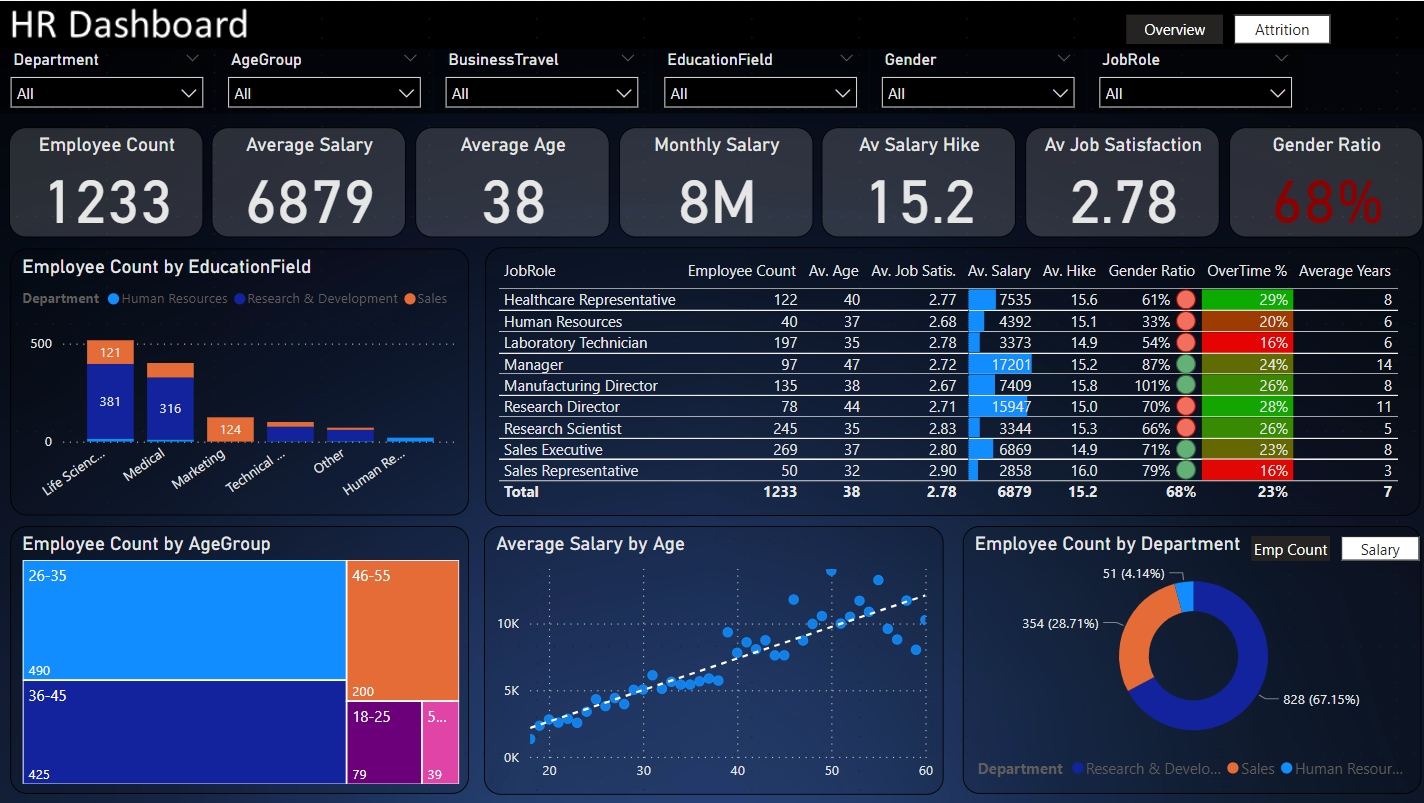

What the dashboard file says about the page in this screenshot:
{"tool":"powerbi","page":{"name":"Overview","canvas":[1280,720],"ordinal":0},"visuals":[{"type":"slicer","fields":{"Values":["HR_Analytics.Department"]},"box":[0,39,192,60.7],"z":0},{"type":"card","title":"Employee Count","fields":{"Values":["HR_Analytics.Employee Count"]},"box":[8.7,112.7,173.4,98.2],"z":1000},{"type":"slicer","fields":{"Values":["HR_Analytics.AgeGroup"]},"box":[194.3,39,192.1,60.7],"z":2000},{"type":"slicer","fields":{"Values":["HR_Analytics.BusinessTravel"]},"box":[388.8,39,192.1,60.7],"z":3000},{"type":"slicer","fields":{"Values":["HR_Analytics.EducationField"]},"box":[583.3,39,192.1,60.7],"z":4000},{"type":"slicer","fields":{"Values":["HR_Analytics.Gender"]},"box":[777.8,39,192.1,60.7],"z":5000},{"type":"slicer","fields":{"Values":["HR_Analytics.JobRole"]},"box":[972.3,39,192.1,60.7],"z":6000},{"type":"card","title":"Gender Ratio","fields":{"Values":["HR_Analytics.Gender Ratio"]},"box":[1098,112.7,173.4,98.2],"z":7000},{"type":"card","title":"Average Age","fields":{"Values":["HR_Analytics.Average Age"]},"box":[371.8,112.7,173.4,98.2],"z":8000},{"type":"card","title":"Av Salary Hike","fields":{"Values":["HR_Analytics.Average Salary Hike"]},"box":[734.9,112.7,173.4,98.2],"z":9000},{"type":"card","title":"Average Salary","fields":{"Values":["HR_Analytics.Average Salary"]},"box":[190.2,112.7,173.4,98.2],"z":10000},{"type":"card","title":"Monthly Salary","fields":{"Values":["HR_Analytics.Monthly Salary"]},"box":[553.3,112.7,173.4,98.2],"z":11000},{"type":"card","title":"Av Job Satisfaction","fields":{"Values":["HR_Analytics.Average Job Satisfaction"]},"box":[916.4,112.7,173.4,98.2],"z":12000},{"type":"columnChart","title":"Employee Count by EducationField","fields":{"Category":["HR_Analytics.EducationField"],"Y":["HR_Analytics.Employee Count"],"Series":["HR_Analytics.Department"]},"box":[10.5,221.2,409.7,238.3],"z":13000},{"type":"treemap","fields":{"Values":["HR_Analytics.Employee Count"],"Group":["HR_Analytics.AgeGroup"]},"box":[10.5,469.3,409.7,239.6],"z":14000},{"type":"donutChart","fields":{"Y":["HR_Analytics.Employee Count"],"Category":["HR_Analytics.Department"]},"box":[860.3,469.3,409.7,239.6],"z":15000},{"type":"tableEx","fields":{"Values":["HR_Analytics.JobRole","HR_Analytics.Employee Count","HR_Analytics.Average Age","HR_Analytics.Average Job Satisfaction","HR_Analytics.Average Salary","HR_Analytics.Average Salary Hike","HR_Analytics.Gender Ratio","HR_Analytics.OverTime %","HR_Analytics.Average Years"]},"box":[433.9,220.4,835,239.8],"z":16000},{"type":"scatterChart","fields":{"X":["HR_Analytics.Age"],"Y":["HR_Analytics.Average Salary"]},"box":[433.4,468.9,410,240],"z":17000},{"type":"pageNavigator","box":[1006.8,12.7,183.1,26.8],"z":18000},{"type":"bookmarkNavigator","box":[1118.2,477.3,150.9,22.7],"z":20000}]}

Visuals, with their boxes in screenshot pixels (x1, y1, x2, y2), scaled from the page's 1280x720 canvas onto the 1424x803 screenshot:
slicer - HR_Analytics.Department: <region>0, 43, 214, 111</region>
"Employee Count" card: <region>10, 126, 203, 235</region>
slicer - HR_Analytics.AgeGroup: <region>216, 43, 430, 111</region>
slicer - HR_Analytics.BusinessTravel: <region>433, 43, 646, 111</region>
slicer - HR_Analytics.EducationField: <region>649, 43, 863, 111</region>
slicer - HR_Analytics.Gender: <region>865, 43, 1079, 111</region>
slicer - HR_Analytics.JobRole: <region>1082, 43, 1295, 111</region>
"Gender Ratio" card: <region>1222, 126, 1414, 235</region>
"Average Age" card: <region>414, 126, 607, 235</region>
"Av Salary Hike" card: <region>818, 126, 1010, 235</region>
"Average Salary" card: <region>212, 126, 405, 235</region>
"Monthly Salary" card: <region>616, 126, 808, 235</region>
"Av Job Satisfaction" card: <region>1019, 126, 1212, 235</region>
"Employee Count by EducationField" columnChart: <region>12, 247, 467, 512</region>
treemap - HR_Analytics.Employee Count x HR_Analytics.AgeGroup: <region>12, 523, 467, 791</region>
donutChart - HR_Analytics.Employee Count x HR_Analytics.Department: <region>957, 523, 1413, 791</region>
tableEx - HR_Analytics.JobRole x HR_Analytics.Employee Count: <region>483, 246, 1412, 513</region>
scatterChart - HR_Analytics.Age x HR_Analytics.Average Salary: <region>482, 523, 938, 791</region>
pageNavigator: <region>1120, 14, 1324, 44</region>
bookmarkNavigator: <region>1244, 532, 1412, 558</region>
